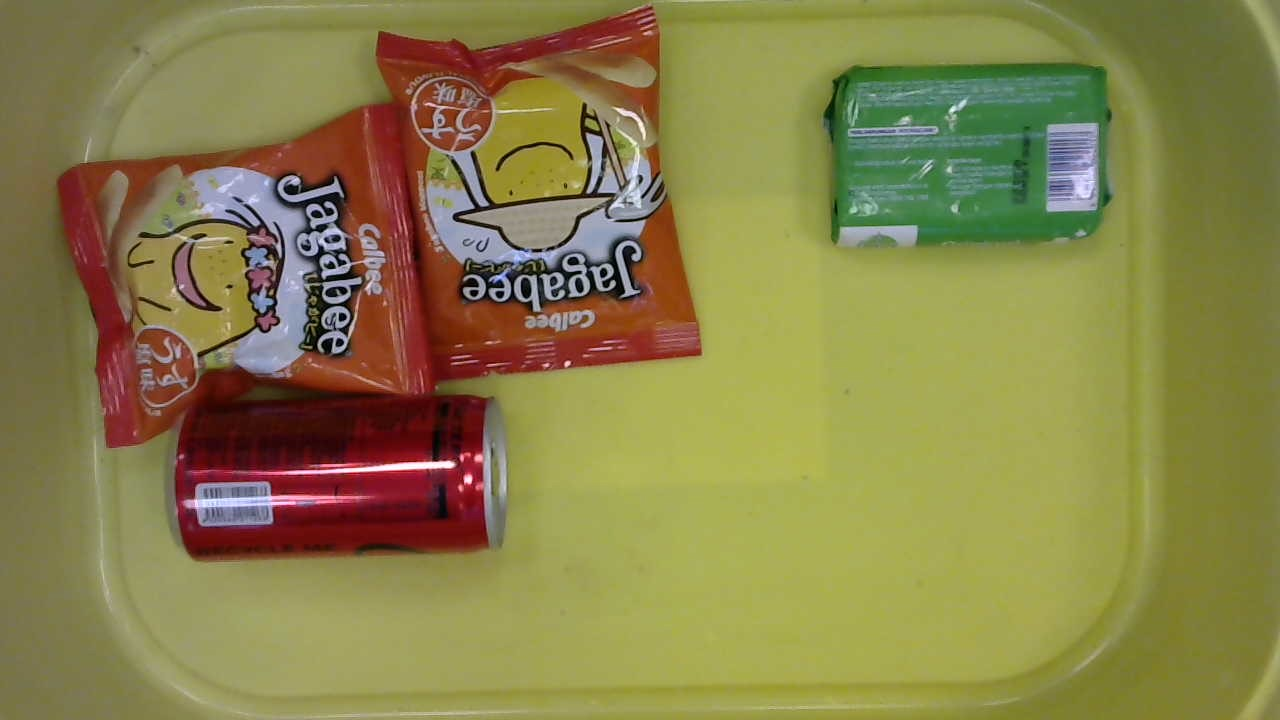JagabeeFarmer: (386, 11, 721, 383)
